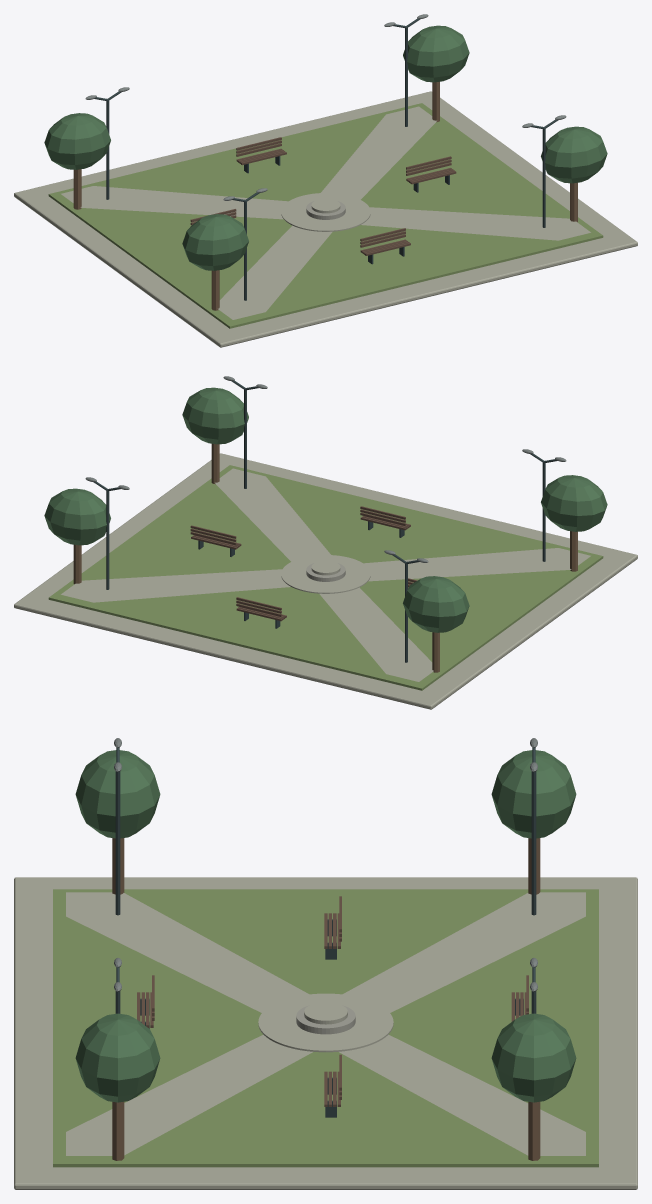
Rendered from gms-29.glb.
The picture shows the model from 3 angles, top to bottom: view 1: azimuth 30°, elevation 25°; view 2: azimuth 150°, elevation 25°; view 3: azimuth 270°, elevation 25°; orthographic projection. The views are drawn at different scales.
Parts seen in each view (by area): view 1: Low lawn across the square, Context plinth, Broadleaf canopy, Dark timber bench seat, Bench iron leg, Native trunk; view 2: Low lawn across the square, Context plinth, Broadleaf canopy, Dark timber bench seat, Bench iron leg, Native trunk; view 3: Low lawn across the square, Context plinth, Broadleaf canopy, Bench iron leg, Native trunk, Dark timber bench seat, Low circular central edging.
Boxes of the visible parts, left/top/right/bottom form: Low lawn across the square: left=48, top=103, right=603, bottom=328; Context plinth: left=14, top=91, right=637, bottom=347; Broadleaf canopy: left=44, top=25, right=607, bottom=270; Dark timber bench seat: left=190, top=137, right=456, bottom=255; Bench iron leg: left=94, top=18, right=558, bottom=300; Native trunk: left=73, top=81, right=577, bottom=310; Low lawn across the square: left=48, top=465, right=603, bottom=690; Context plinth: left=14, top=453, right=637, bottom=709; Broadleaf canopy: left=44, top=387, right=607, bottom=632; Dark timber bench seat: left=190, top=506, right=417, bottom=621; Bench iron leg: left=93, top=380, right=557, bottom=662; Native trunk: left=73, top=443, right=577, bottom=672; Low lawn across the square: left=53, top=889, right=598, bottom=1167; Context plinth: left=14, top=877, right=637, bottom=1189; Broadleaf canopy: left=75, top=750, right=576, bottom=1102; Bench iron leg: left=115, top=747, right=536, bottom=1117; Native trunk: left=112, top=838, right=540, bottom=1160; Dark timber bench seat: left=137, top=896, right=528, bottom=1106; Low circular central edging: left=296, top=1005, right=355, bottom=1034.
Size of the model in its own units: 14.04 by 3.71 by 12.
